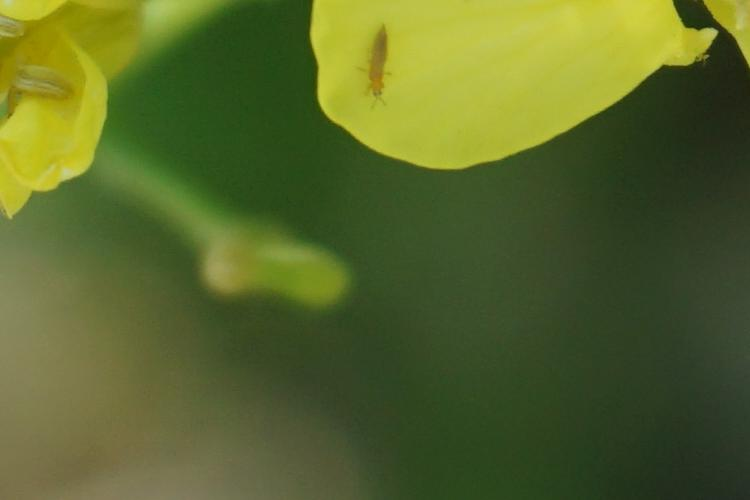yellow: (299, 1, 740, 184), (1, 1, 154, 223)
